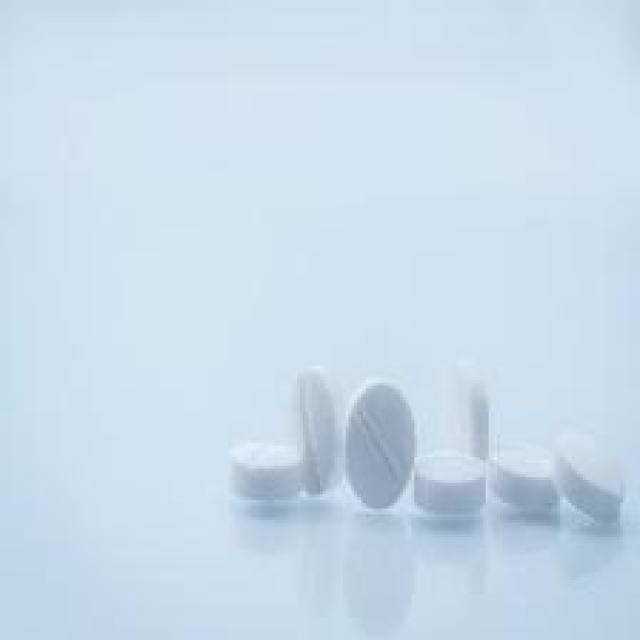Medicine: (214, 321, 628, 555)
